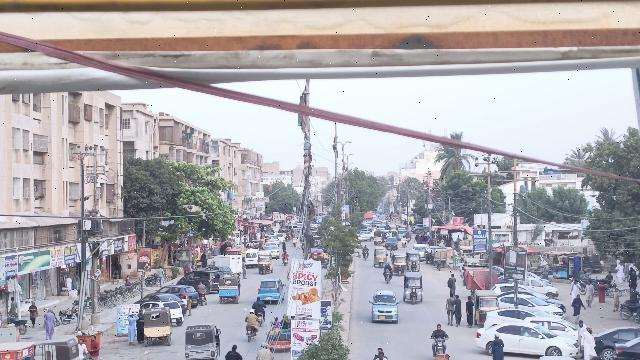Bike: (430, 337, 449, 355), (243, 324, 260, 343), (254, 309, 267, 326), (382, 270, 395, 285)
Car: (473, 321, 580, 355), (484, 306, 550, 327), (368, 291, 400, 325), (256, 276, 285, 305)
Cart: (265, 316, 293, 353)
Person: (40, 306, 57, 342), (579, 325, 595, 360), (569, 294, 586, 325), (462, 293, 476, 329), (126, 310, 138, 347), (443, 292, 456, 326), (490, 331, 505, 360), (583, 278, 595, 309), (430, 322, 449, 340), (135, 307, 144, 344), (452, 294, 462, 327), (26, 300, 39, 324), (244, 310, 260, 327), (252, 295, 267, 312), (446, 271, 457, 293), (383, 263, 393, 272)
Rickshaw: (183, 323, 220, 360), (142, 308, 173, 347), (470, 287, 499, 325), (217, 271, 242, 305), (402, 271, 425, 307), (255, 252, 275, 275), (391, 252, 408, 277), (406, 248, 421, 271)
